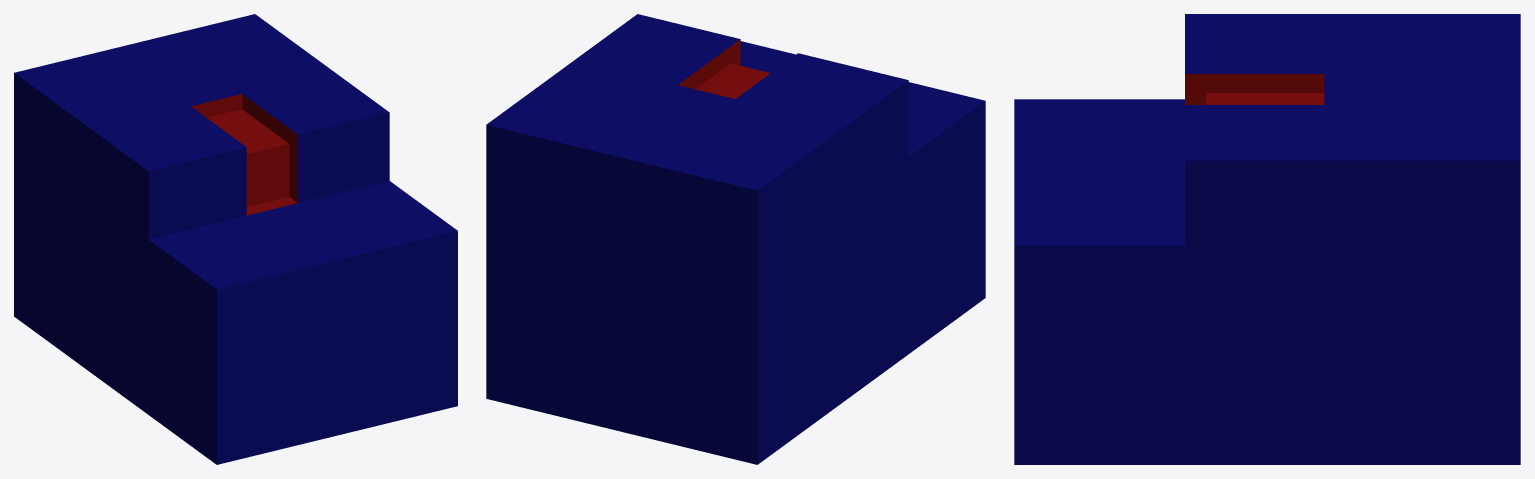
File: TowerArtillaryTop.fbx
3 views of the same model, side by side, from view 1: azimuth 30°, elevation 25°; view 2: azimuth 150°, elevation 25°; view 3: azimuth 270°, elevation 25° (orthographic). The views are drawn at different scales.
Visible parts, largest first — view 1: TowerArtilarrlyTop; view 2: TowerArtilarrlyTop; view 3: TowerArtilarrlyTop.
Boxes of the visible parts, x1,y1,x2,y2 form: TowerArtilarrlyTop: (14,14,457,464); TowerArtilarrlyTop: (486,14,985,464); TowerArtilarrlyTop: (1014,14,1520,464).
Bounding box in the file's own units: 0.4435 × 0.4284 × 0.6462.
